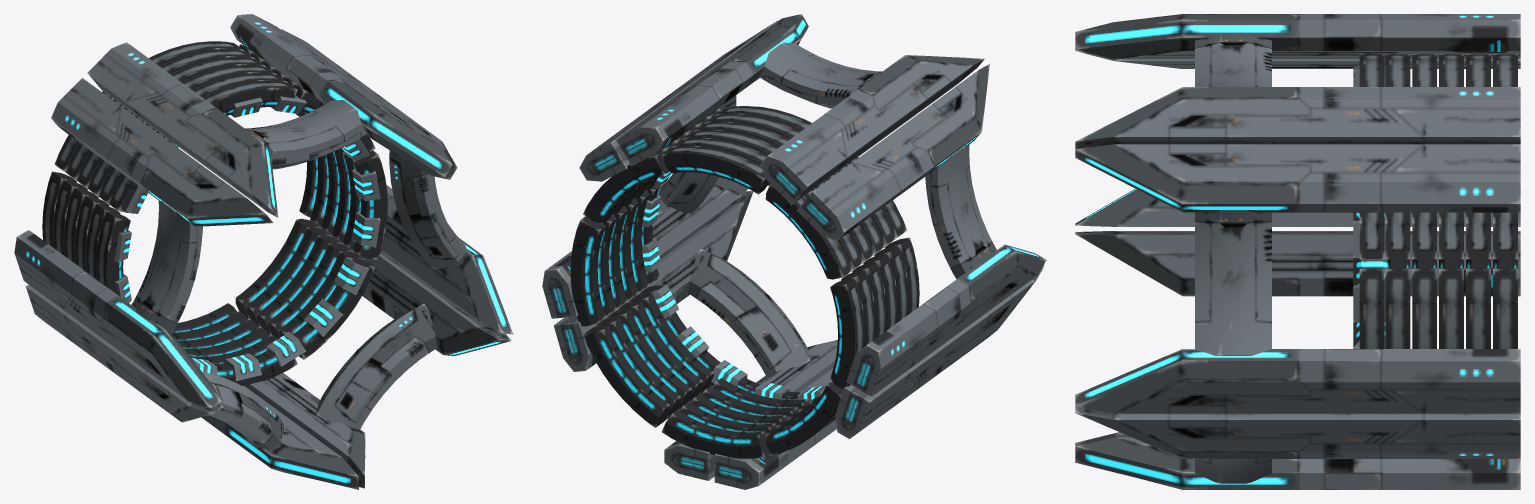
File: WarpGate3_sm.gltf
The picture shows the model from 3 angles, left to right: view 1: azimuth 30°, elevation 25°; view 2: azimuth 150°, elevation 25°; view 3: azimuth 270°, elevation 25°; orthographic projection. The views are drawn at different scales.
Parts seen in each view (by area): view 1: WarpGate03; view 2: WarpGate03; view 3: WarpGate03.
Part boxes in pixels (box(x1,y1,x2,y2)): WarpGate03: box(14, 14, 513, 489); WarpGate03: box(542, 14, 1046, 489); WarpGate03: box(1075, 14, 1520, 489).
Bounding box in the file's own units: 51.01 × 48.88 × 47.38.
1 material, 1 textured.
